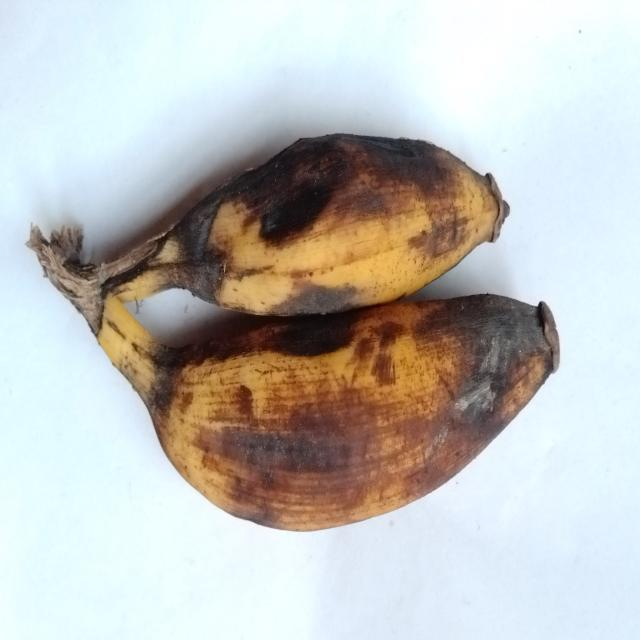banana: (98, 295, 558, 530), (67, 135, 508, 331)
